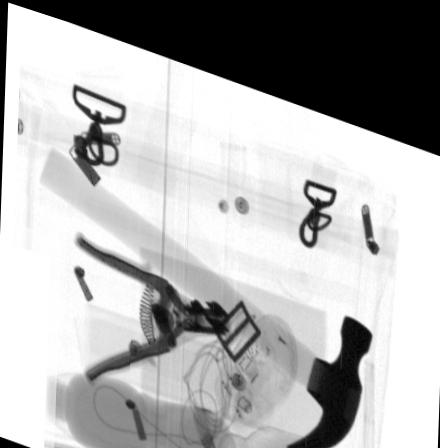Hammer: (40, 139, 375, 434)
Pliers: (73, 224, 233, 377)
